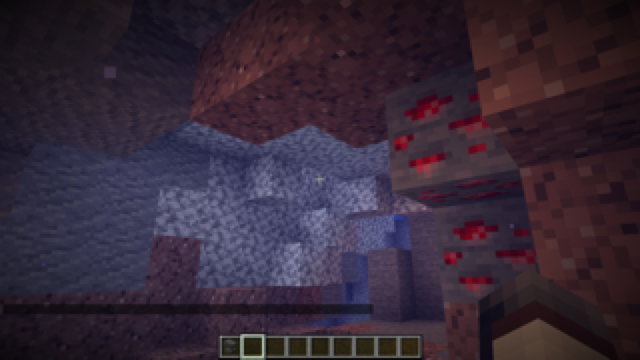redstone: (381, 89, 539, 303)
